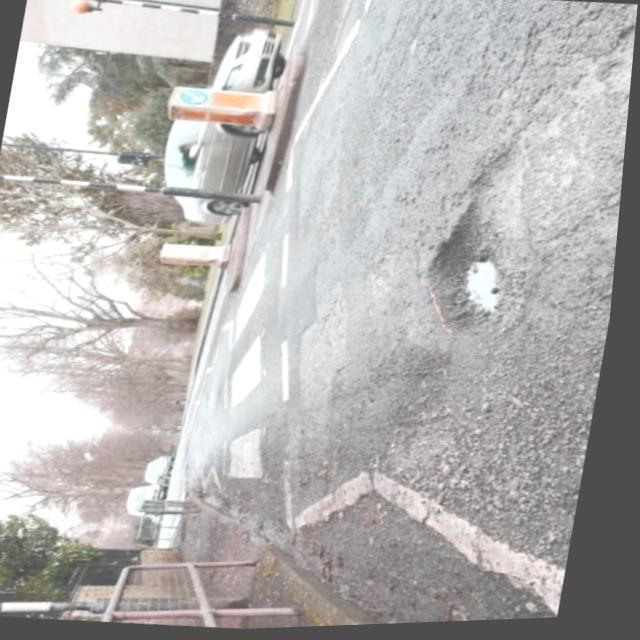pothole: (415, 206, 530, 346)
